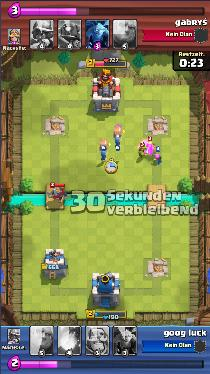ally_archer: (153, 154, 162, 164)
ally_wallbreaker: (113, 126, 126, 151), (98, 139, 110, 161)
enemy_goblin: (139, 143, 148, 158), (146, 139, 155, 152)
enemy_knight: (44, 186, 68, 202)
